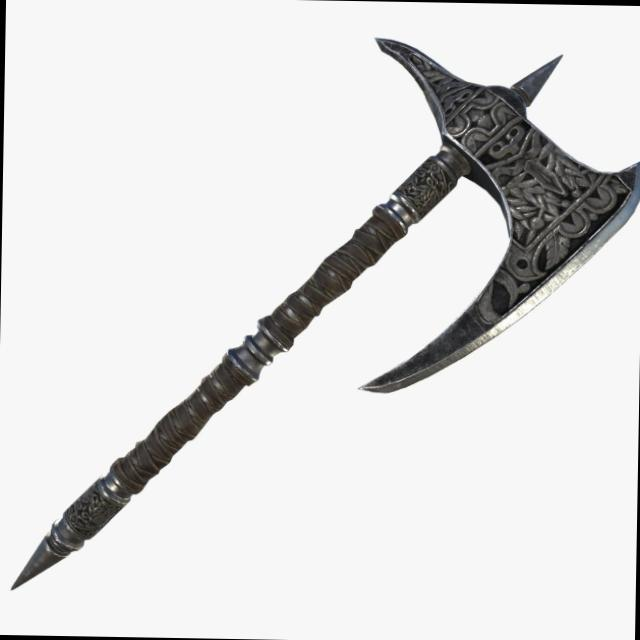Gun: (34, 0, 608, 606)
